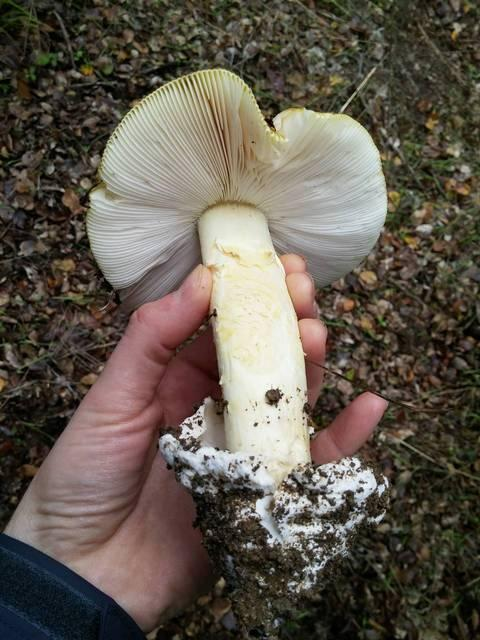Edible Mushroom: (84, 66, 389, 540)
